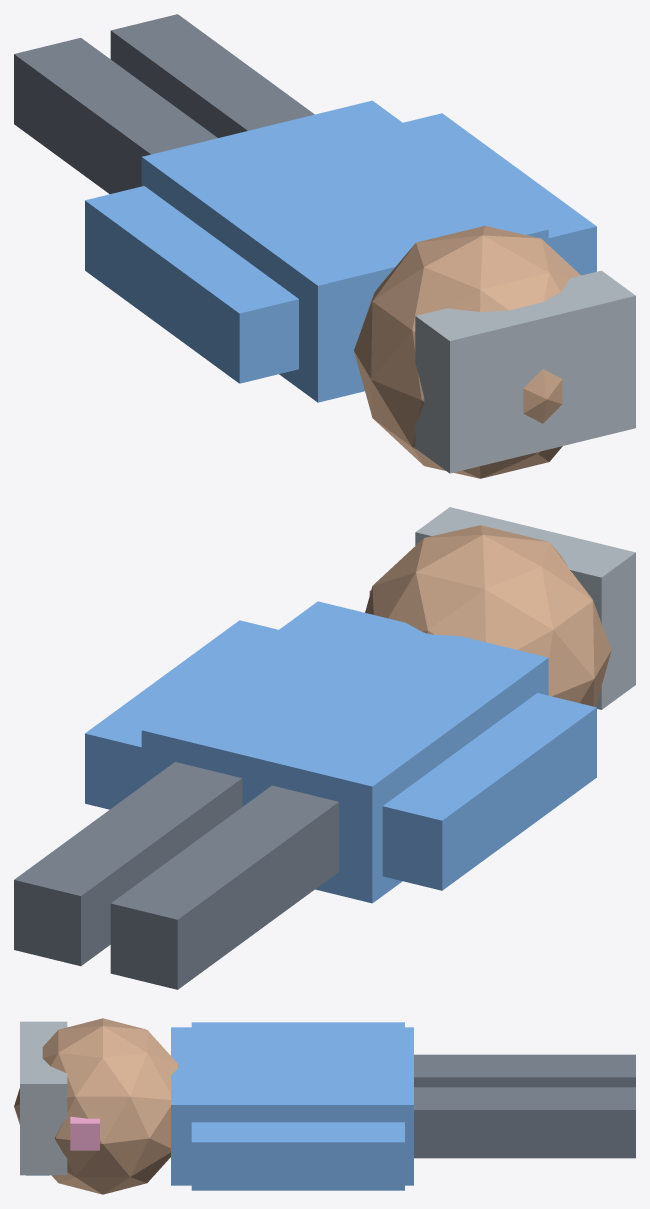
The model's file is ops_variant_2.glb.
The picture shows the model from 3 angles, top to bottom: view 1: azimuth 30°, elevation 25°; view 2: azimuth 150°, elevation 25°; view 3: azimuth 270°, elevation 25°; orthographic projection. The views are drawn at different scales.
Visible parts, largest first — view 1: torso_2, hair_6, arm_l_3, head_5, leg_l_0, leg_r_1, arm_r_4; view 2: torso_2, leg_l_0, arm_l_3, head_5, leg_r_1, arm_r_4, hair_6; view 3: torso_2, head_5, leg_r_1, arm_r_4, leg_l_0, hair_6, arm_l_3, earring_or_badge_8.
Boxes of the visible parts, <box> form: torso_2: <box>141,100,548,402</box>; hair_6: <box>415,270,635,473</box>; arm_l_3: <box>85,186,298,383</box>; head_5: <box>354,226,580,478</box>; leg_l_0: <box>14,38,217,193</box>; leg_r_1: <box>110,14,314,137</box>; arm_r_4: <box>403,113,596,275</box>; torso_2: <box>141,601,548,903</box>; leg_l_0: <box>110,785,338,989</box>; arm_l_3: <box>382,693,596,890</box>; head_5: <box>365,525,611,706</box>; leg_r_1: <box>14,762,242,966</box>; arm_r_4: <box>85,620,278,809</box>; hair_6: <box>415,507,635,709</box>; torso_2: <box>171,1027,413,1185</box>; head_5: <box>14,1018,178,1194</box>; leg_r_1: <box>414,1087,635,1158</box>; arm_r_4: <box>191,1122,404,1190</box>; leg_l_0: <box>414,1054,635,1087</box>; hair_6: <box>20,1021,67,1175</box>; arm_l_3: <box>191,1022,404,1027</box>; earring_or_badge_8: <box>70,1116,99,1150</box>.
Bounding box in the file's own units: 0.96 × 0.6 × 2.1.
